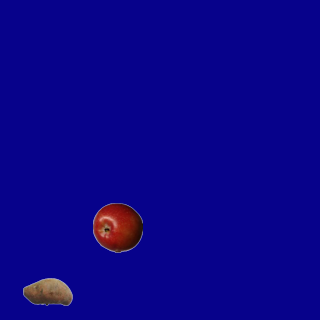Apple Braeburn: (92, 202, 142, 252)
Potato Sweet: (22, 266, 72, 316)
